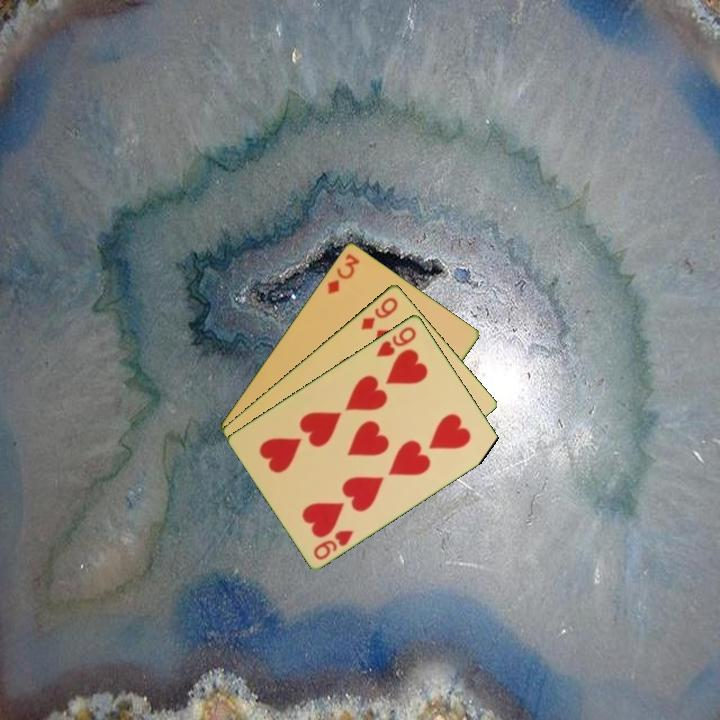3d: (324, 249, 363, 297)
9d: (357, 293, 401, 333)
9h: (373, 323, 419, 360), (310, 526, 357, 562)
